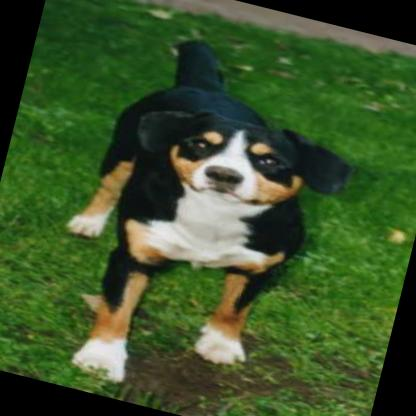EntleBucher: (32, 18, 370, 416)
